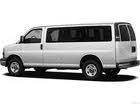car: (1, 20, 140, 82)
